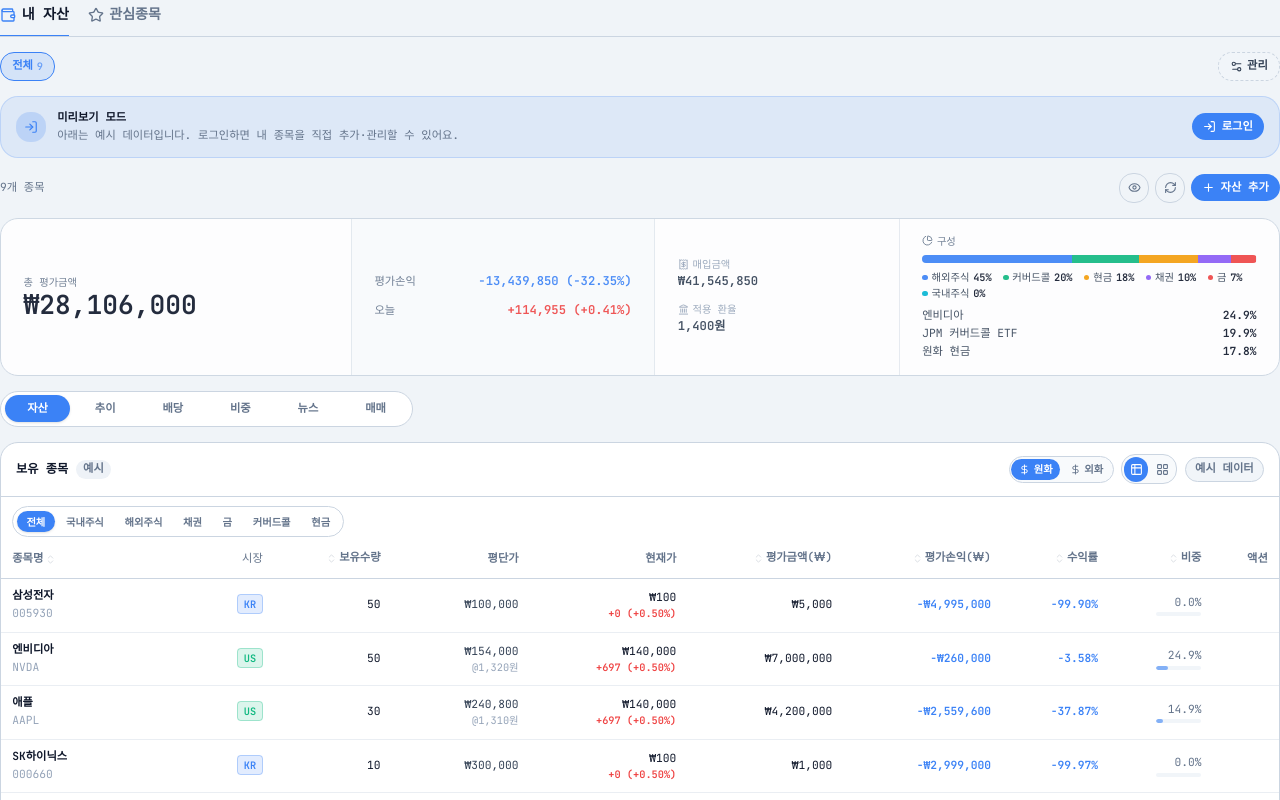
Test: 내 자산 미리보기 (비로그인) › 자산유형 탭이 전부 내용을 갖는다
Click the tab "국내주식" at (85, 522), box [57,511,113,532]
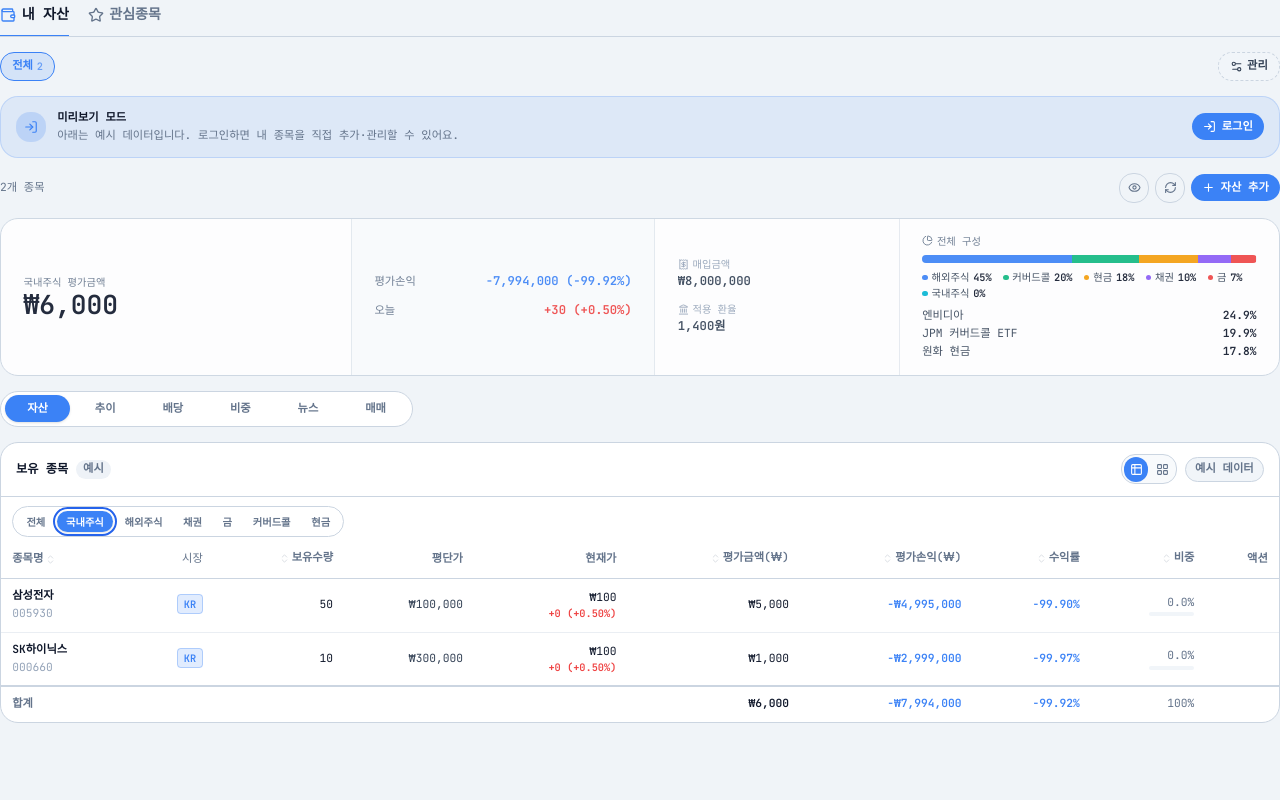
Now the text "국내주식 평가금액" is shown, box [24,275,106,289]
Click the tab "해외주식" at (143, 522), box [115,511,172,532]
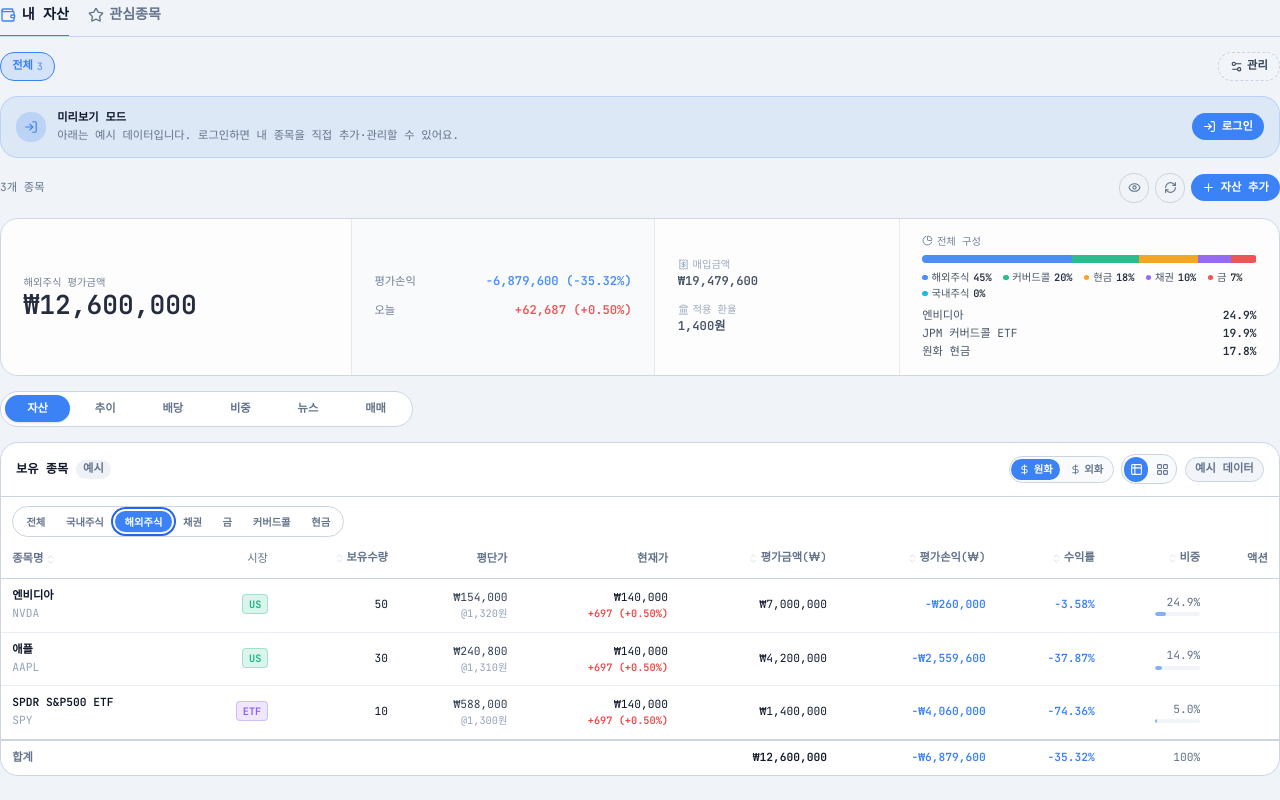
Now the text "해외주식 평가금액" is shown, box [24,275,106,289]
Click the tab "채권" at (192, 522), box [174,511,211,532]
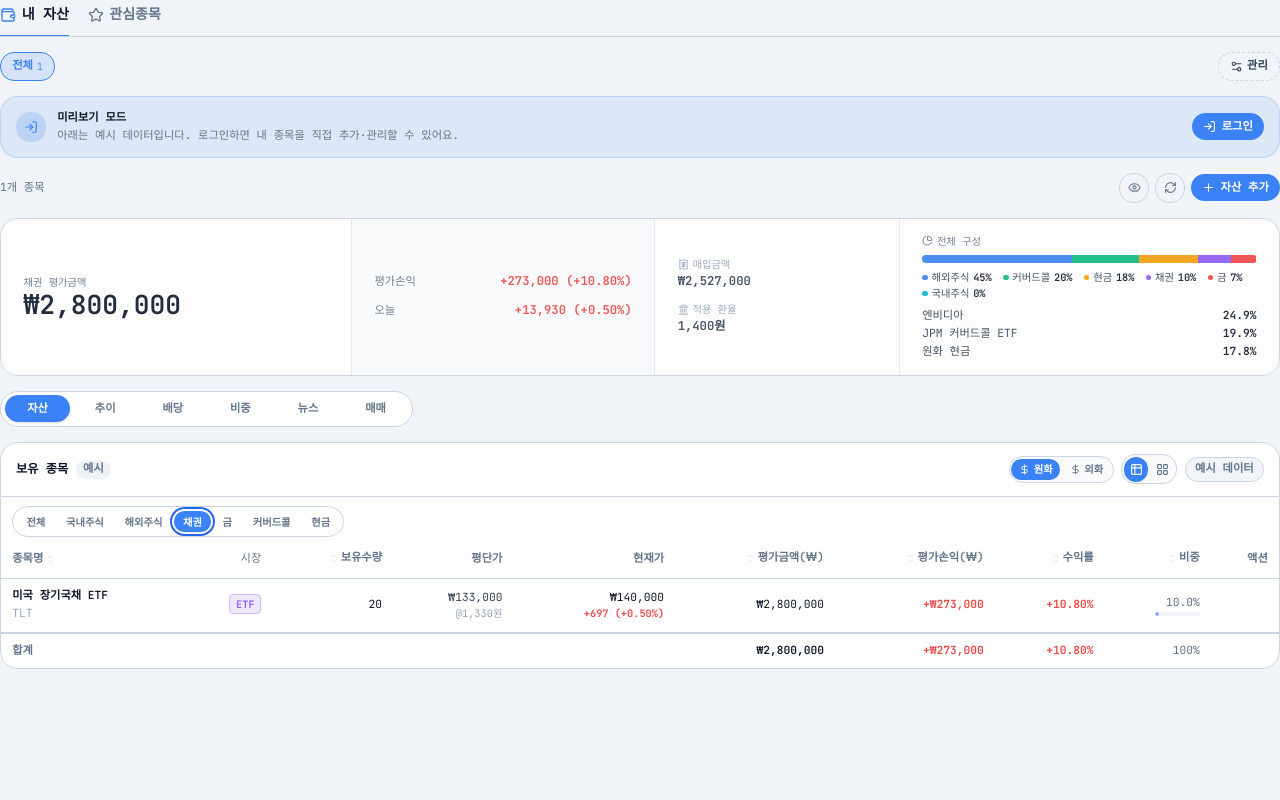
Now the text "채권 평가금액" is shown, box [24,275,86,289]
Click the tab "금" at (227, 522), box [213,511,241,532]
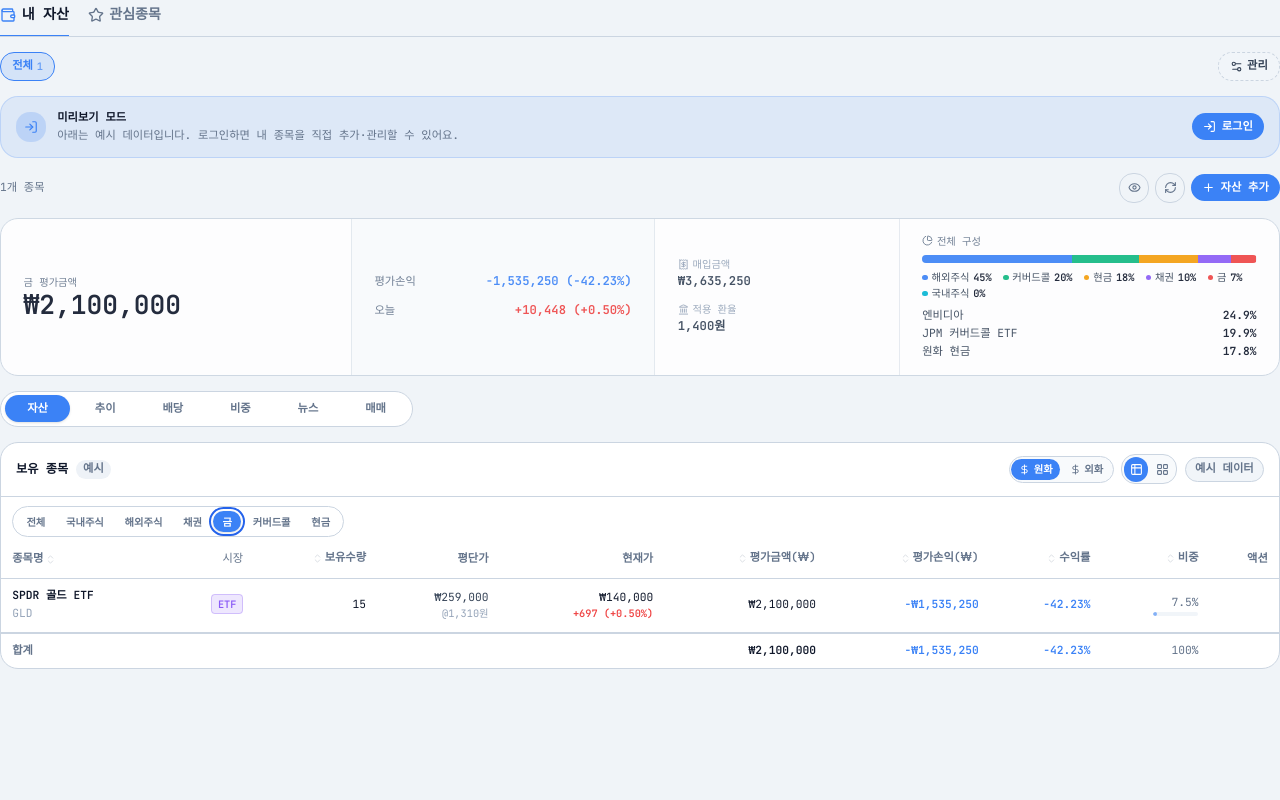
Expected: the text "금 평가금액" is shown, [24,275,77,289]
Click the tab "커버드콜" at (272, 522), box [243,511,300,532]
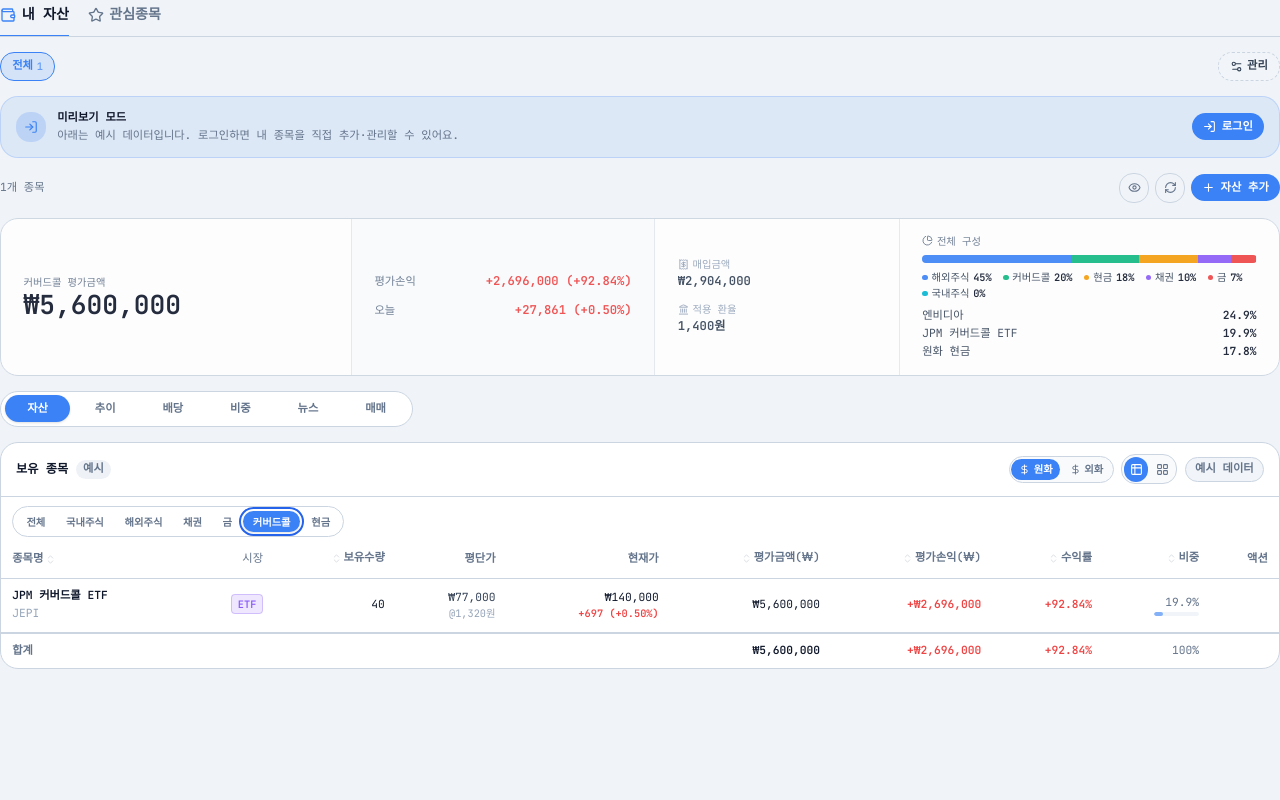
Now the text "커버드콜 평가금액" is shown, box [24,275,106,289]
Click the tab "현금" at (321, 522), box [302,511,340,532]
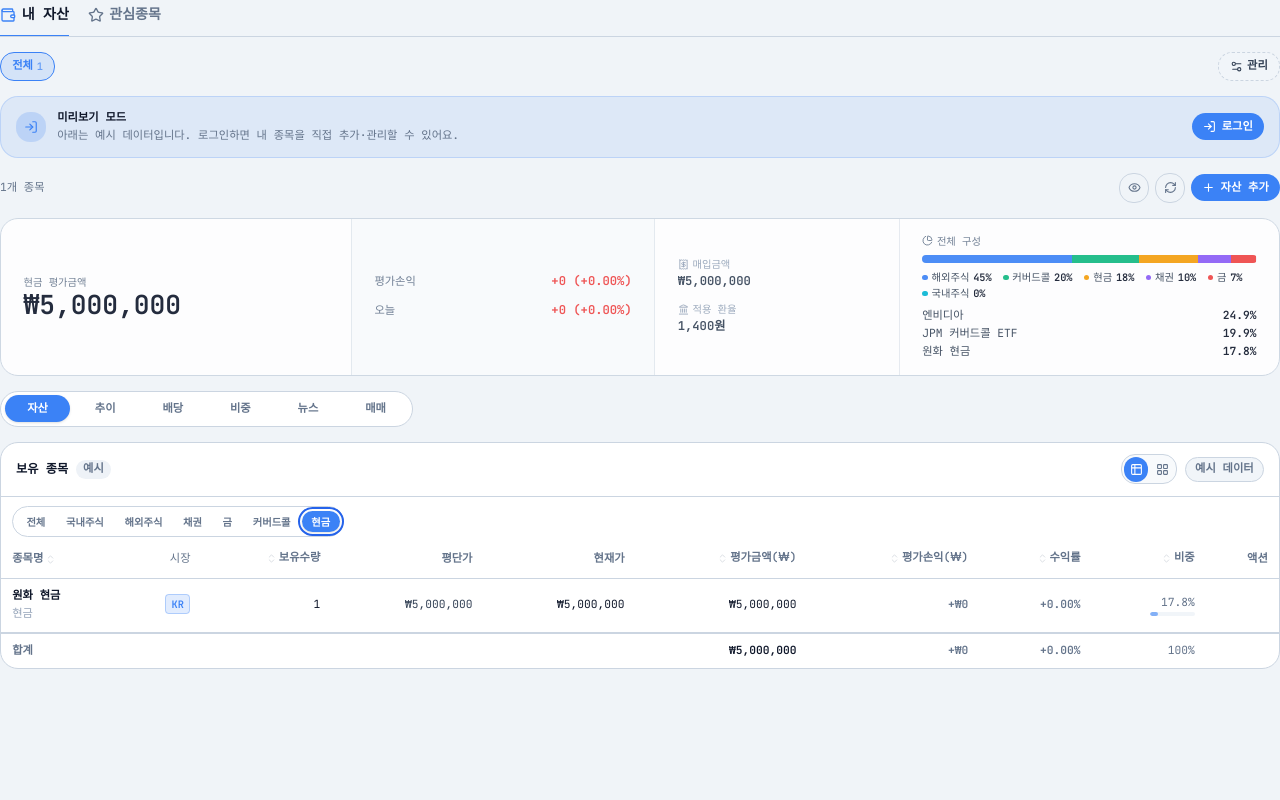
Now the text "현금 평가금액" is shown, box [24,275,86,289]
